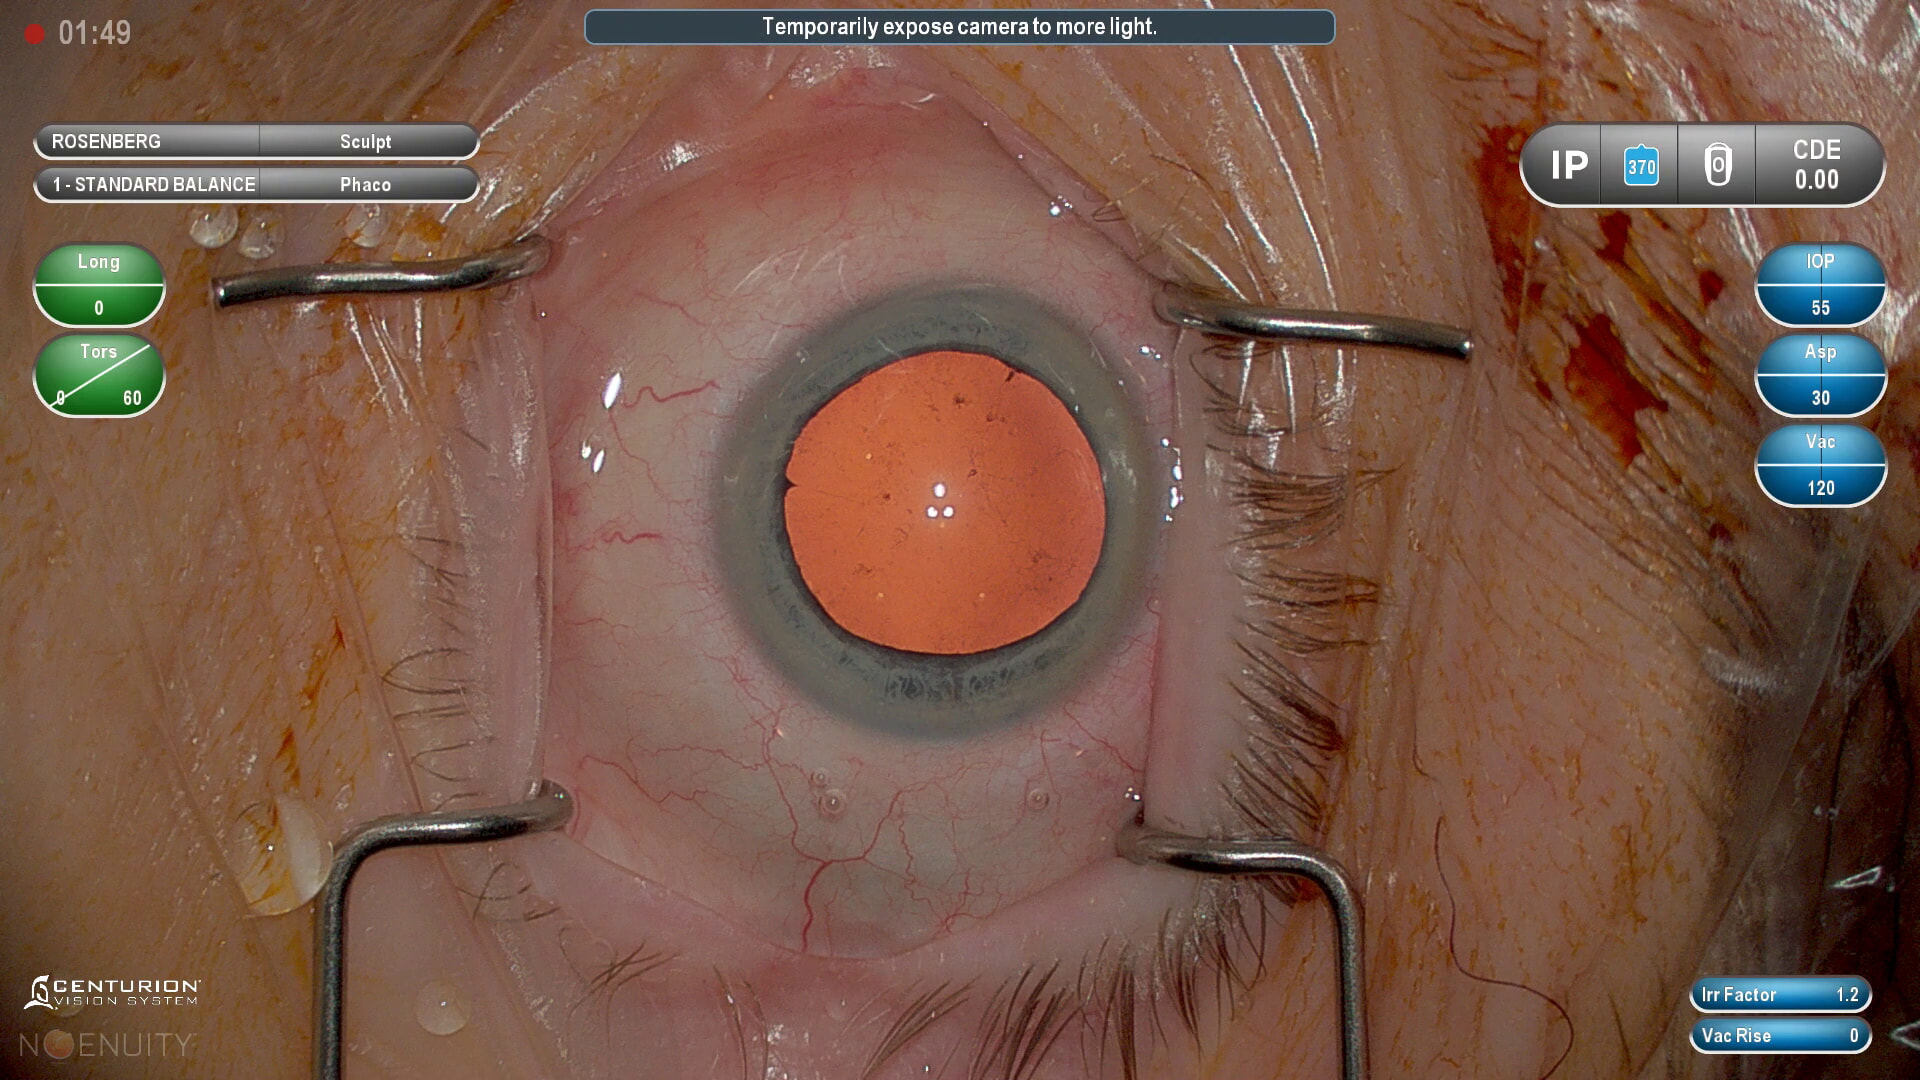iris: (722, 290, 1149, 726)
pupil: (772, 344, 1110, 665)
